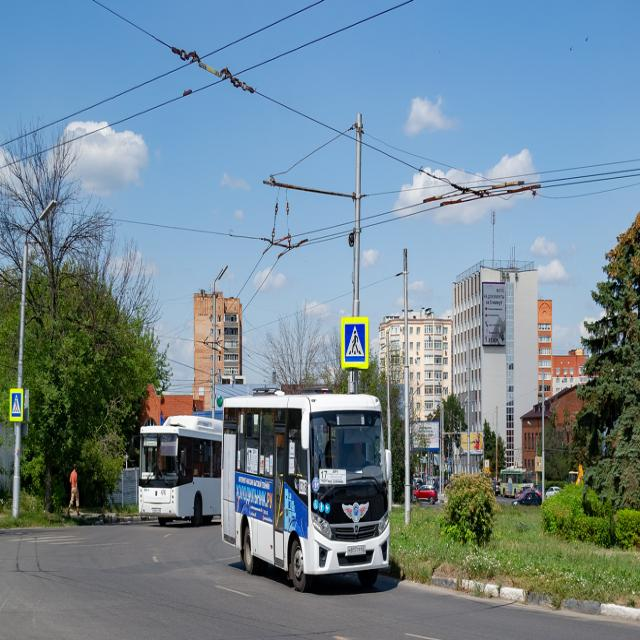number-of-bus: (248, 449, 253, 467), (321, 471, 329, 480)
